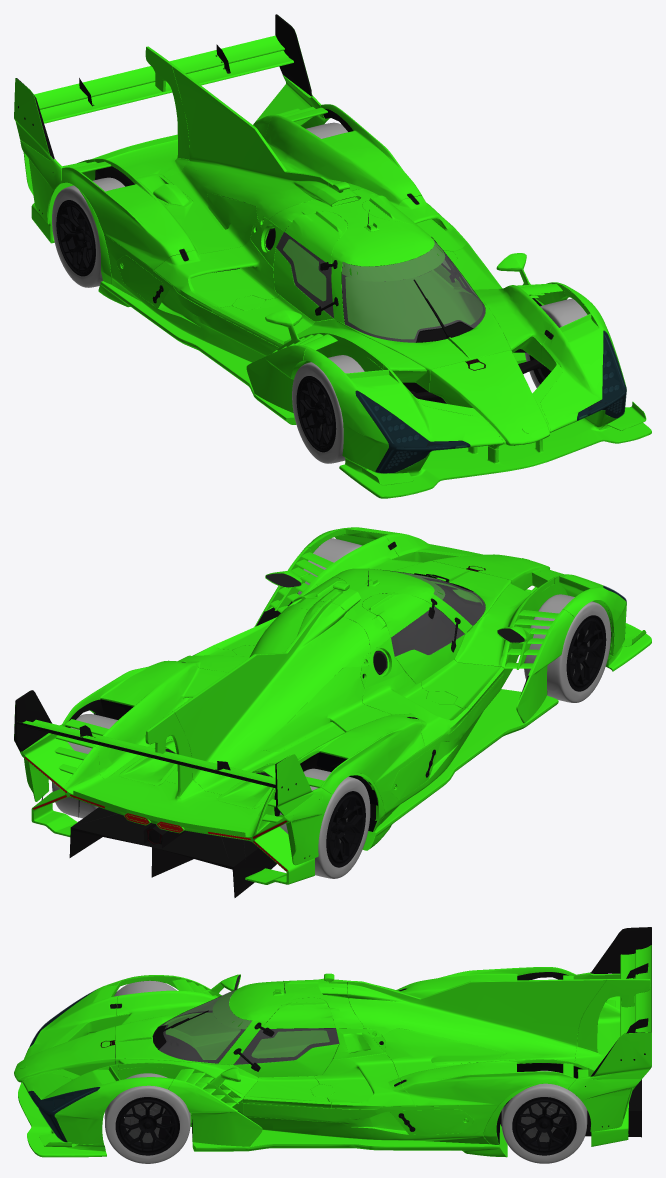
Rendered from lamborghini-sc63.glb.
The picture shows the model from 3 angles, top to bottom: view 1: azimuth 30°, elevation 25°; view 2: azimuth 150°, elevation 25°; view 3: azimuth 270°, elevation 25°; orthographic projection. The views are drawn at different scales.
Visible parts, largest first — view 1: BODY, GLASS, WHEEL_RF, WHEEL_RR, WHEEL_LF; view 2: BODY, WHEEL_RF, WHEEL_RR, GLASS, WHEEL_LR, WHEEL_LF; view 3: BODY, GLASS, WHEEL_LF, WHEEL_LR, WHEEL_RF.
Part boxes in pixels (x1=…): BODY: x1=14, y1=14, x2=651, y2=498; GLASS: x1=276, y1=232, x2=626, y2=473; WHEEL_RF: x1=292, y1=355, x2=364, y2=463; WHEEL_RR: x1=52, y1=177, x2=124, y2=287; WHEEL_LF: x1=525, y1=298, x2=587, y2=387; BODY: x1=14, y1=527, x2=651, y2=897; WHEEL_RF: x1=524, y1=594, x2=610, y2=702; WHEEL_RR: x1=279, y1=768, x2=370, y2=878; GLASS: x1=383, y1=570, x2=626, y2=656; WHEEL_LR: x1=52, y1=714, x2=117, y2=818; WHEEL_LF: x1=298, y1=538, x2=362, y2=594; BODY: x1=14, y1=927, x2=651, y2=1157; GLASS: x1=28, y1=988, x2=339, y2=1142; WHEEL_LF: x1=104, y1=1073, x2=190, y2=1163; WHEEL_LR: x1=501, y1=1070, x2=587, y2=1163; WHEEL_RF: x1=114, y1=980, x2=176, y2=996.
Bounding box in the file's own units: 2.08 × 1.17 × 5.
